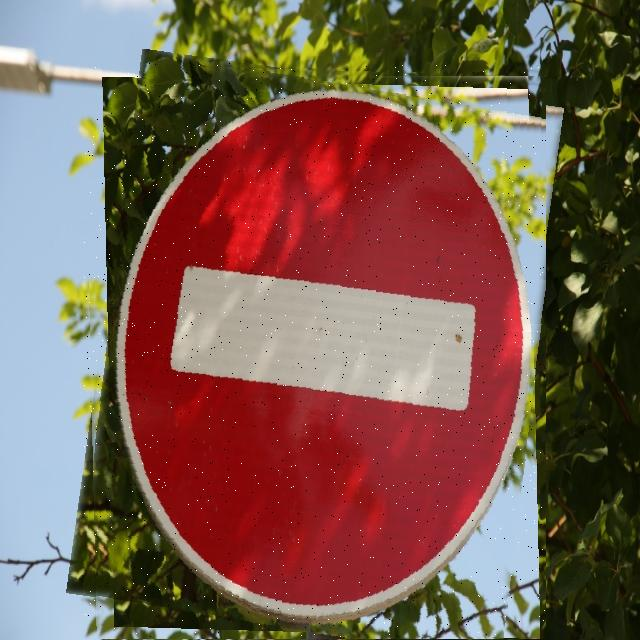no entry: (84, 63, 546, 639)
